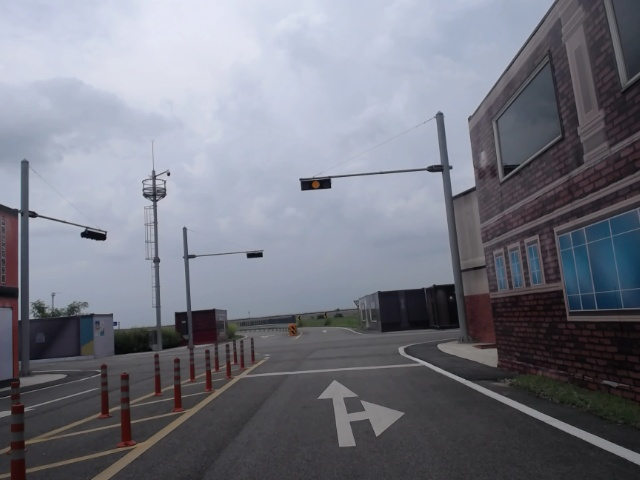orange_3: (301, 179, 331, 191)
